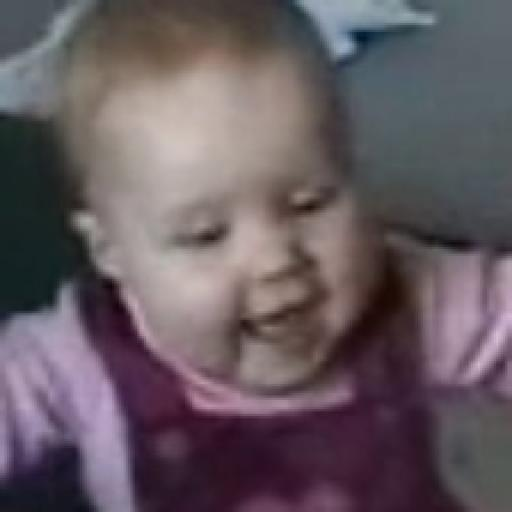Autism: (55, 0, 446, 450)
